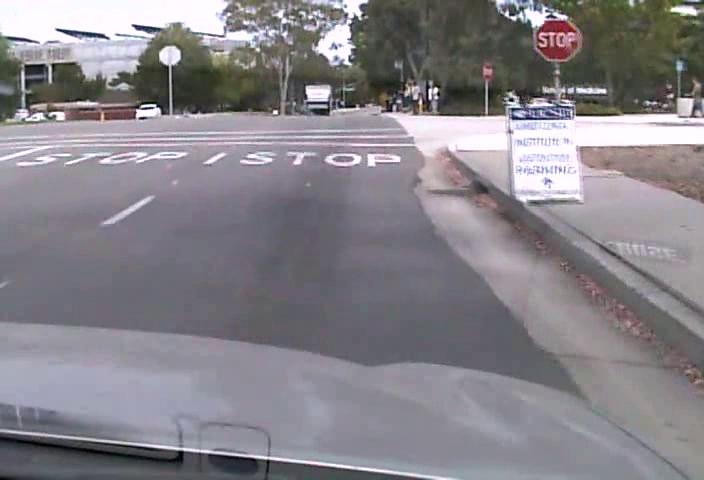stop: (534, 18, 581, 62)
